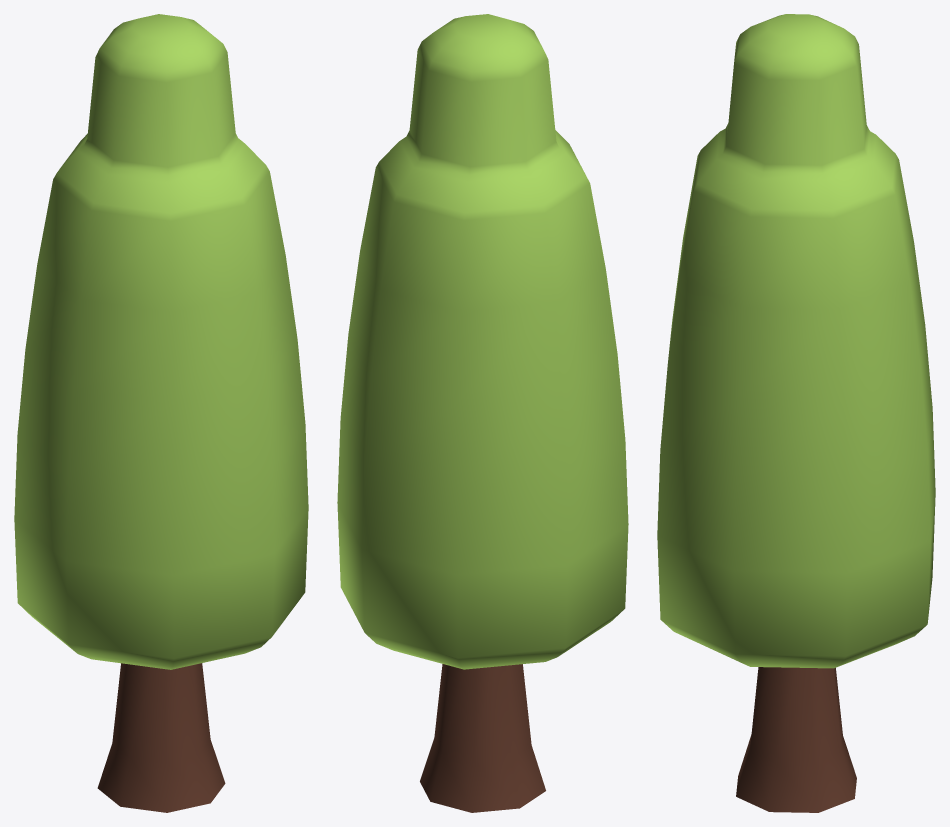
File: tree_01.fbx
3 views of the same model, side by side, from view 1: azimuth 30°, elevation 25°; view 2: azimuth 150°, elevation 25°; view 3: azimuth 270°, elevation 25° (orthographic).
Parts seen in each view (by area): view 1: tree_01; view 2: tree_01; view 3: tree_01.
Boxes of the visible parts, left/top/right/bottom form: tree_01: left=14, top=14, right=308, bottom=812; tree_01: left=337, top=14, right=628, bottom=812; tree_01: left=657, top=14, right=935, bottom=812.
Bounding box in the file's own units: 1.49 × 4.51 × 1.49.
1 material, 1 textured.
